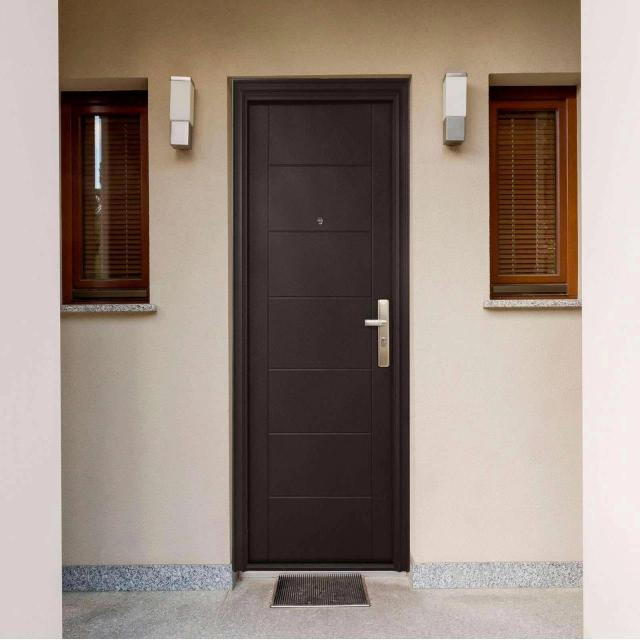door: (234, 76, 408, 572)
